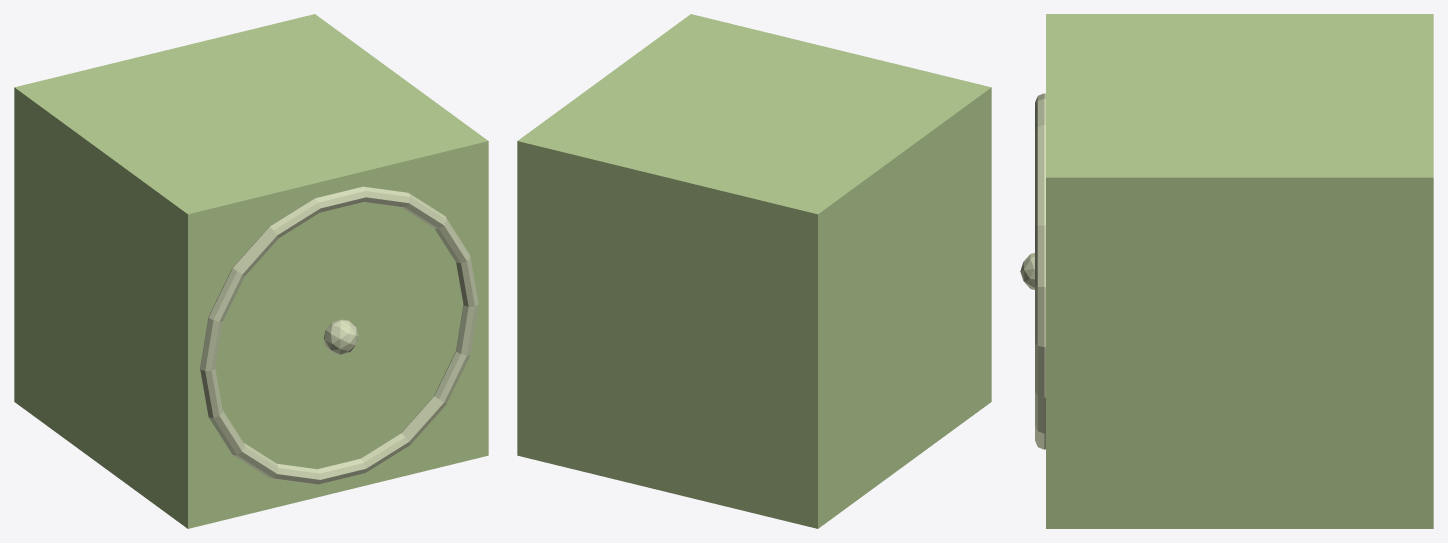
Rendered from reflex.glb.
The picture shows the model from 3 angles, left to right: view 1: azimuth 30°, elevation 25°; view 2: azimuth 150°, elevation 25°; view 3: azimuth 270°, elevation 25°; orthographic projection. The views are drawn at different scales.
Parts seen in each view (by area): view 1: world; view 2: world; view 3: world.
Boxes of the visible parts, x1,y1,x2,y2 form: world: (14,14,488,528); world: (517,14,991,528); world: (1020,14,1433,528).
Size of the model in its own units: 1.05 by 1.05 by 1.12.
